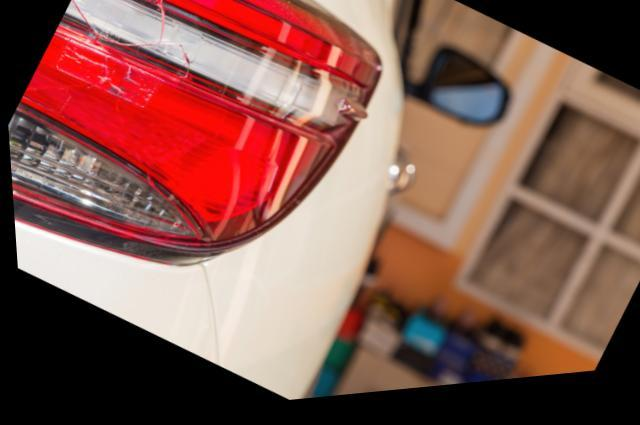lamp broken: (6, 0, 380, 257)
